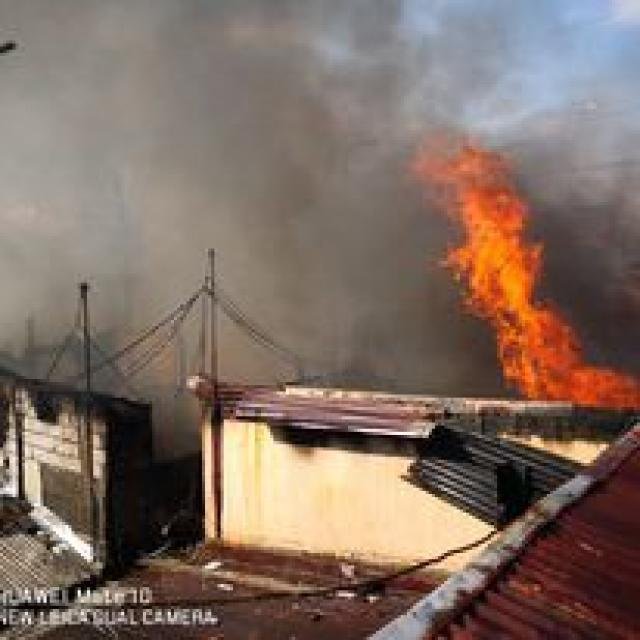Fire: (405, 131, 640, 412)
Smoke: (18, 0, 640, 388)
